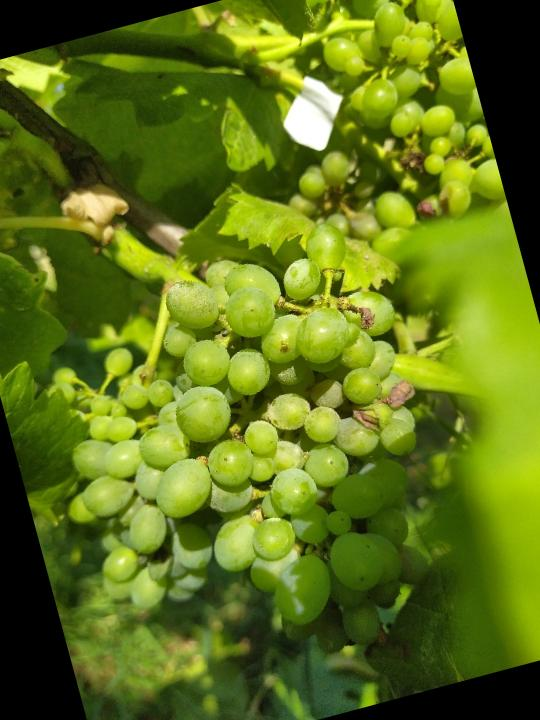grape: (12, 208, 481, 715)
